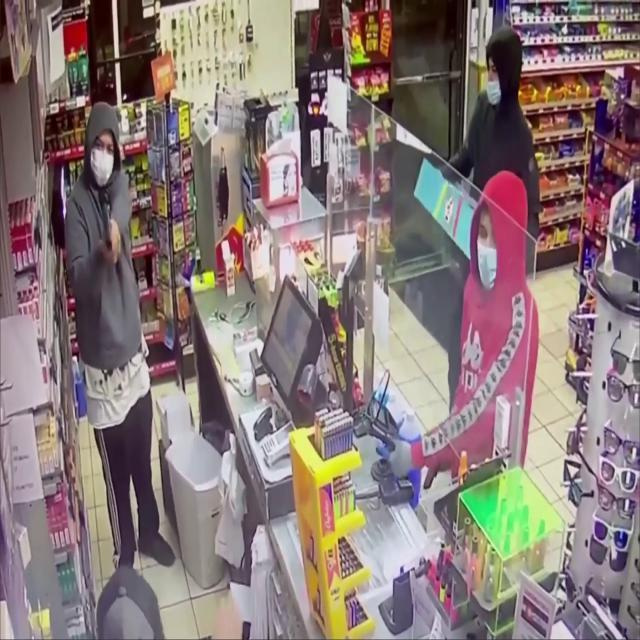gun: (103, 220, 119, 263)
